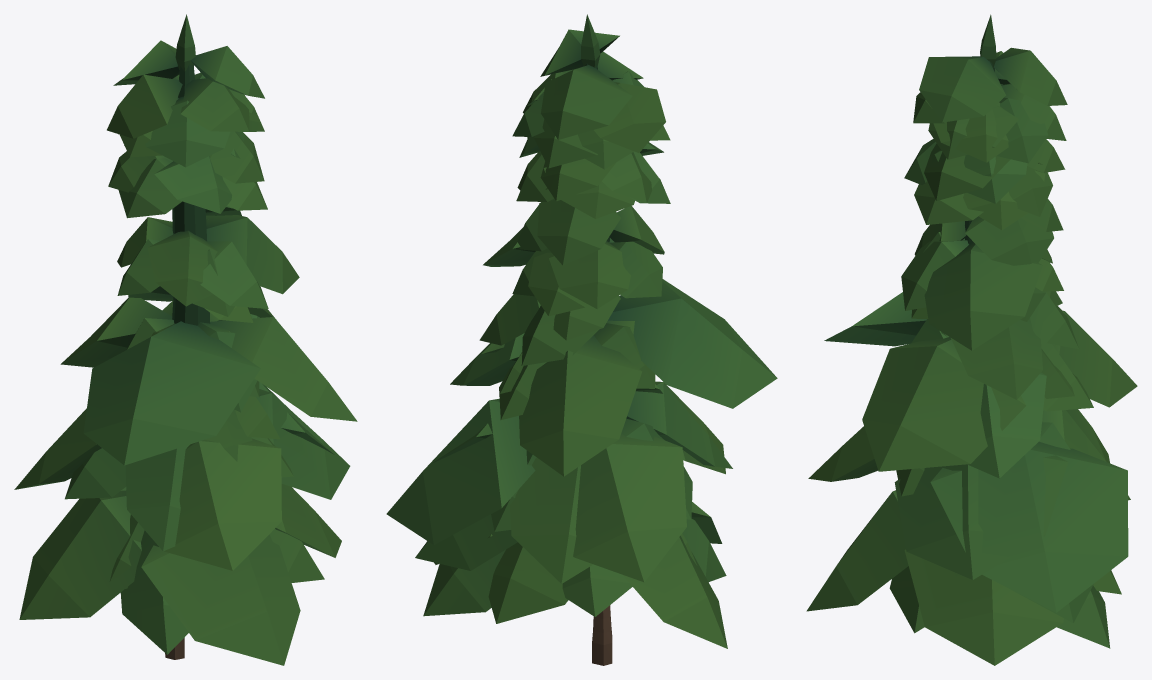
Rendered from spruce_young_A.glb.
3 views of the same model, side by side, from view 1: azimuth 30°, elevation 25°; view 2: azimuth 150°, elevation 25°; view 3: azimuth 270°, elevation 25° (orthographic).
Parts seen in each view (by area): view 1: spruce_young_A; view 2: spruce_young_A; view 3: spruce_young_A.
Part boxes in pixels (<box>): spruce_young_A: <box>14,14,357,665</box>; spruce_young_A: <box>386,14,777,665</box>; spruce_young_A: <box>806,14,1137,665</box>.
Size of the model in its own units: 1.95 by 3.72 by 1.73.
